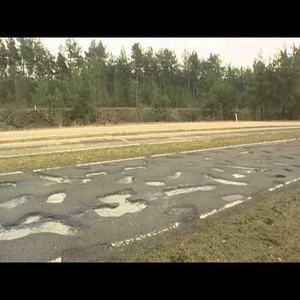pothole: (2, 211, 79, 243), (95, 191, 150, 220), (163, 184, 218, 198), (168, 204, 199, 223), (45, 191, 69, 206)
